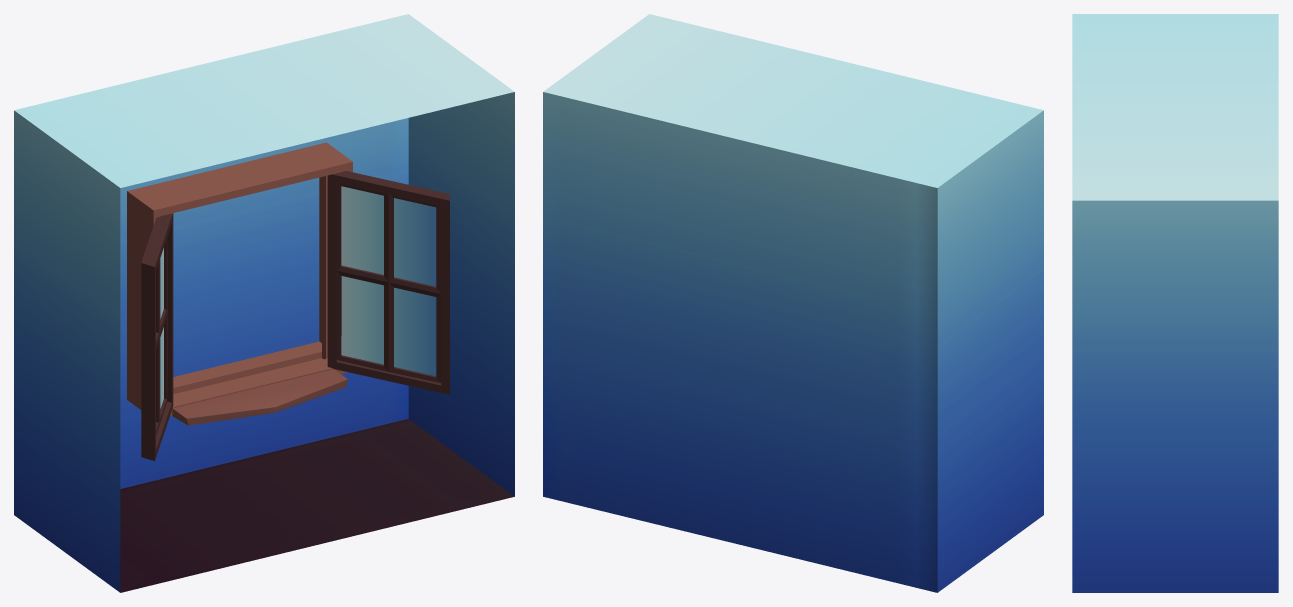
Rendered from window airplane minigame 4.0.fbx.
3 renders of one model, left to right at view 1: azimuth 30°, elevation 25°; view 2: azimuth 150°, elevation 25°; view 3: azimuth 270°, elevation 25°, orthographic. The views are drawn at different scales.
Visible parts, largest first — view 1: Cube.002, Cube.001; view 2: Cube.002; view 3: Cube.002.
Part boxes in pixels (x1=…): Cube.002: x1=14, y1=14, x2=514, y2=592; Cube.001: x1=127, y1=142, x2=449, y2=460; Cube.002: x1=543, y1=14, x2=1043, y2=592; Cube.002: x1=1072, y1=14, x2=1278, y2=592.
Bounding box in the file's own units: 1384 × 1357 × 647.
